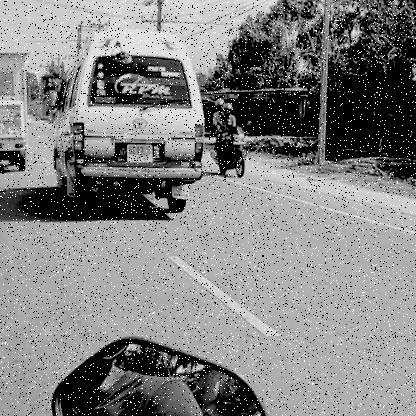motorcycle: (209, 125, 255, 185)
